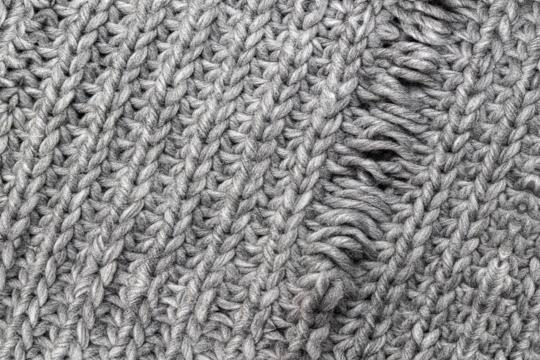slub: (302, 1, 483, 273)
